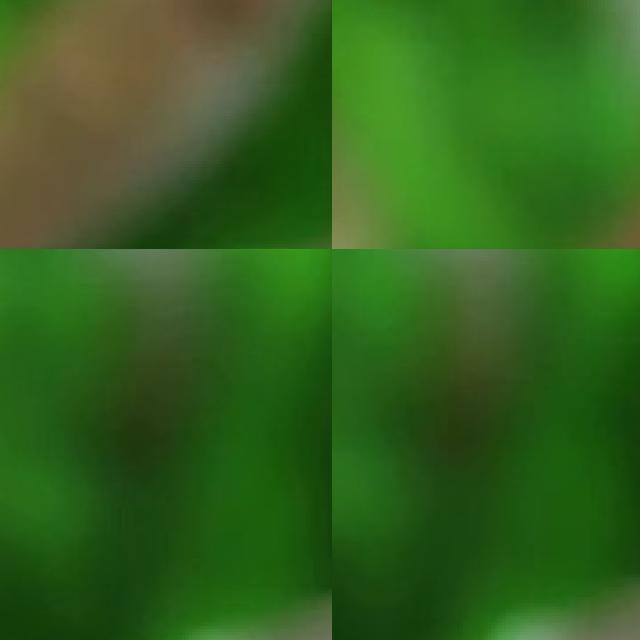fish: (0, 0, 332, 249), (332, 18, 640, 249)
